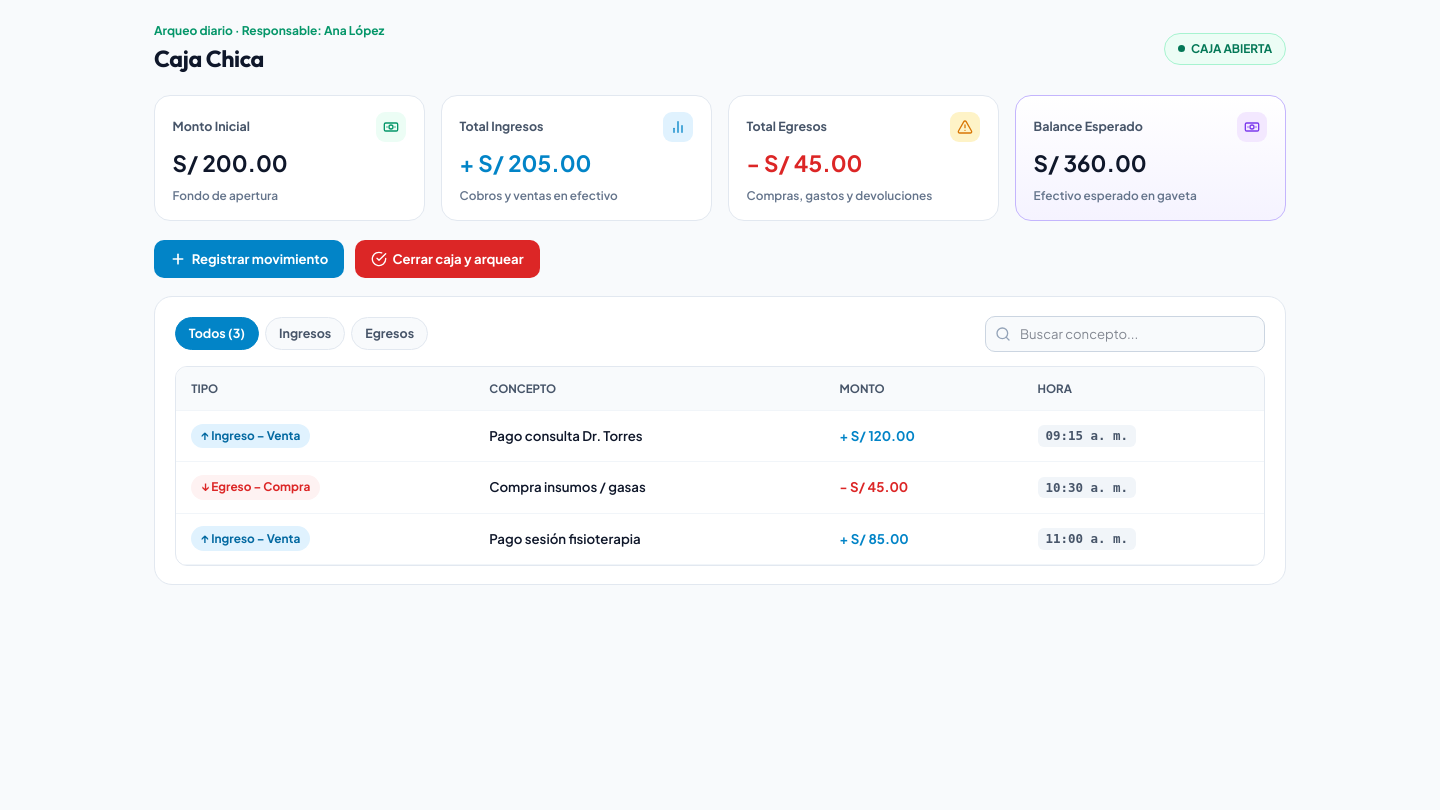
Test: CashRegisterPage (Pruebas de comportamiento accesibles) › permite abrir el formulario de arqueo y cierre de caja desde el botón visible
Click the button "Cerrar caja y arquear": coordinates (447, 259) [355,240,540,278]
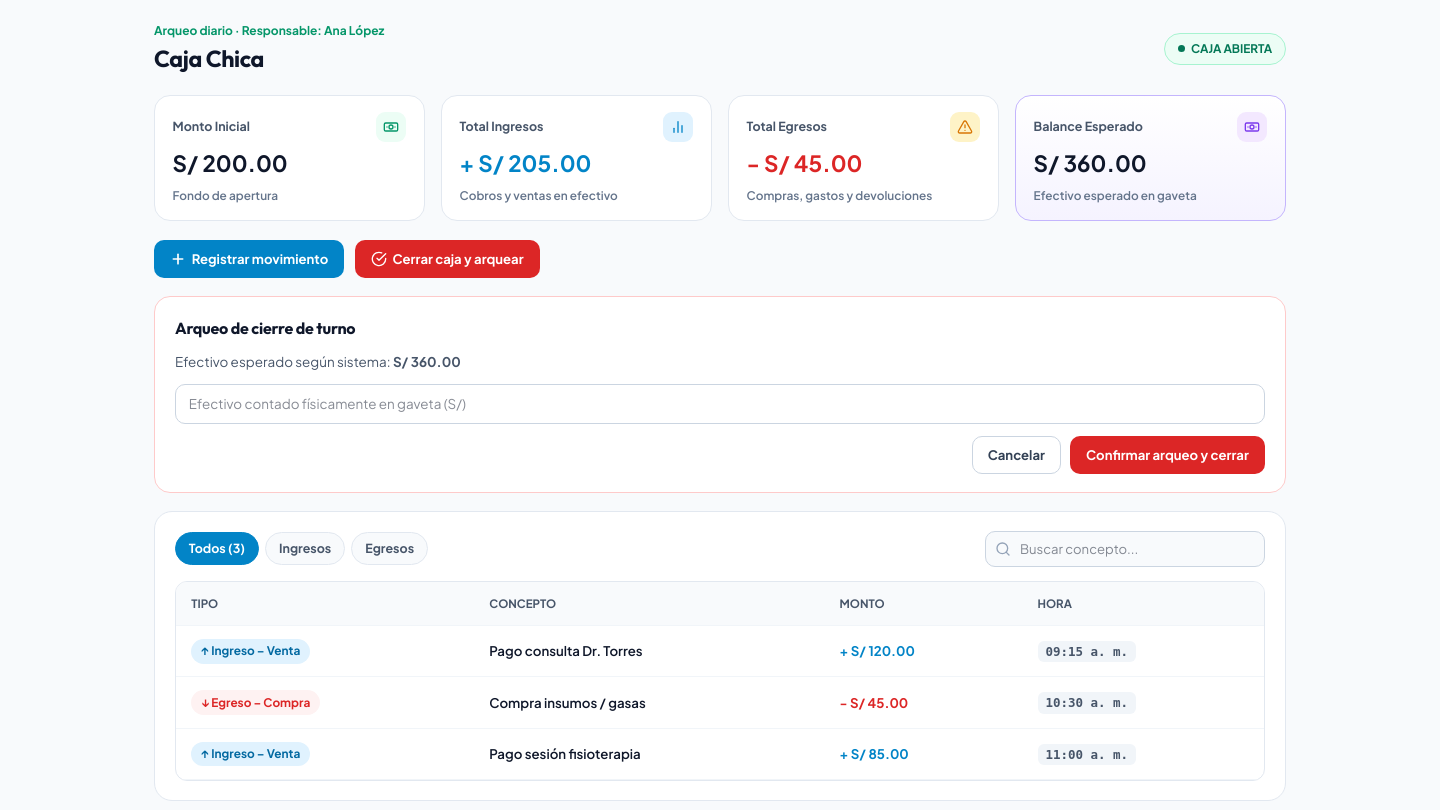
Check: the number field is shown, box [175,384,1265,424]
